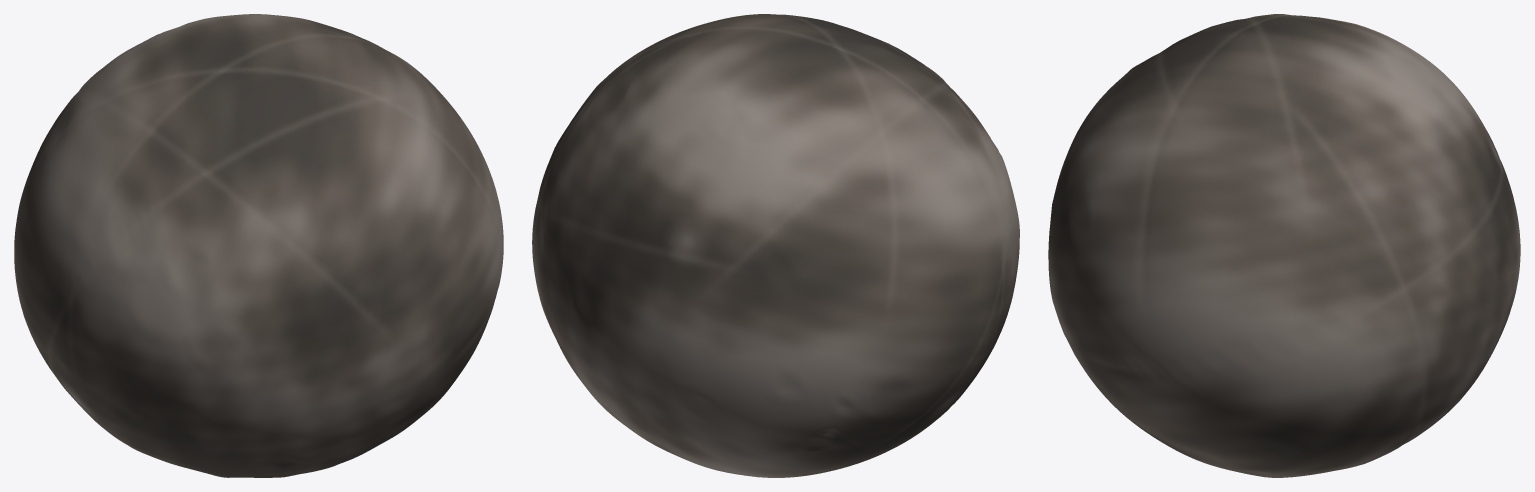
Rendered from vanth.glb.
The picture shows the model from 3 angles, left to right: view 1: azimuth 30°, elevation 25°; view 2: azimuth 150°, elevation 25°; view 3: azimuth 270°, elevation 25°; orthographic projection.
Parts seen in each view (by area): view 1: vanth_body; view 2: vanth_body; view 3: vanth_body.
Boxes of the visible parts, bbox=[...] form: vanth_body: bbox=[14, 14, 503, 477]; vanth_body: bbox=[532, 14, 1019, 477]; vanth_body: bbox=[1048, 14, 1520, 477].
Size of the model in its own units: 2.07 by 1.94 by 2.
Materials: 1 (1 with a texture image).
